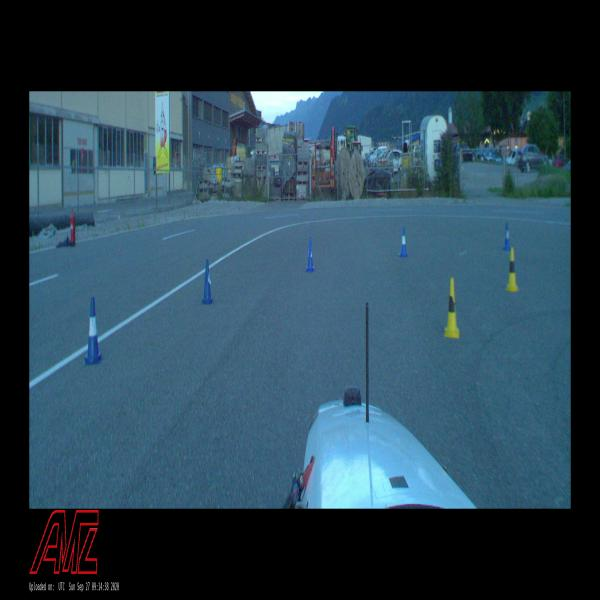blue_cone: (84, 297, 103, 365), (201, 259, 214, 304), (306, 238, 315, 272), (399, 227, 408, 257), (503, 223, 511, 250)
yellow_cone: (444, 278, 460, 338), (506, 247, 519, 291)
